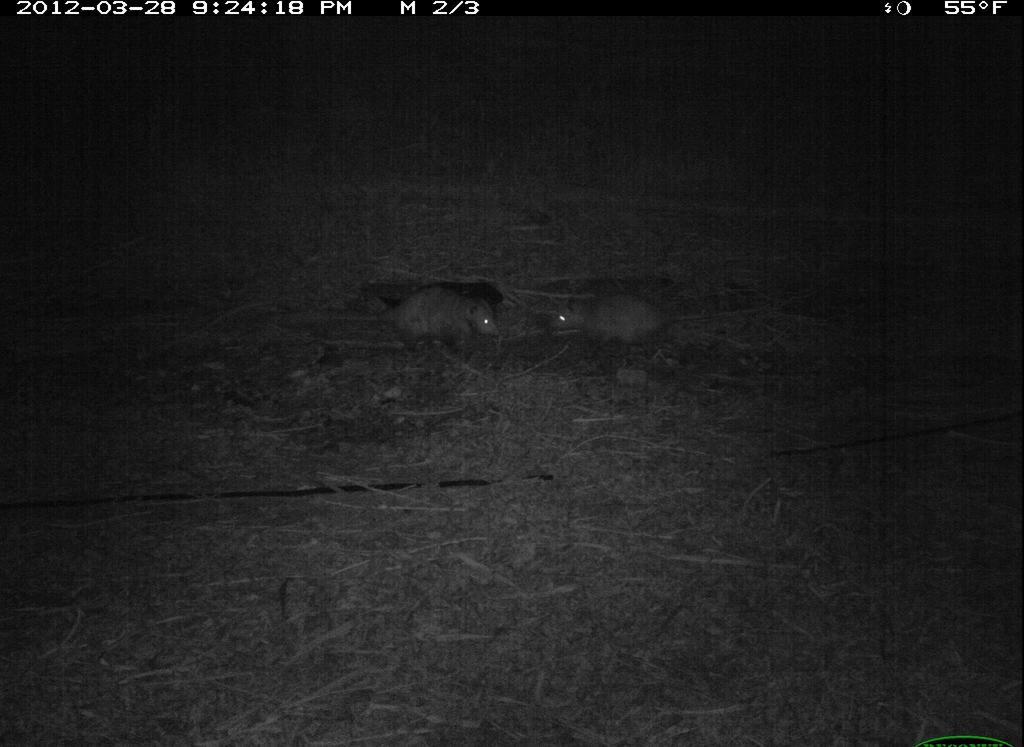opossum: (315, 280, 509, 361), (543, 286, 685, 359)
